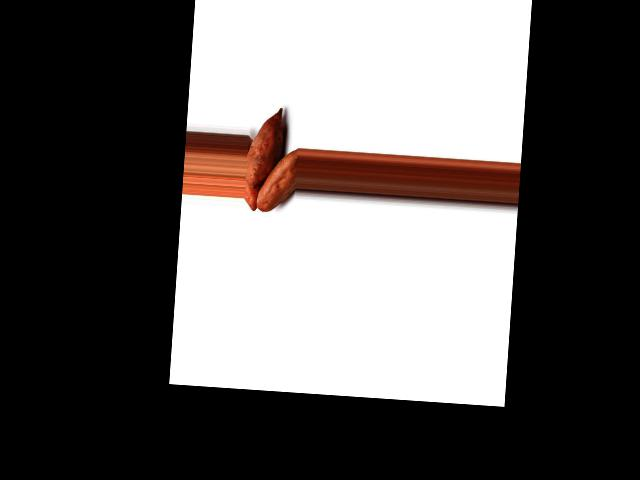sweet_potato: (256, 142, 299, 214)
